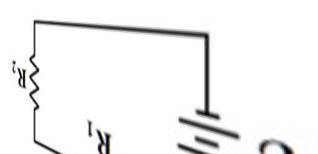resistor: (24, 52, 45, 111)
